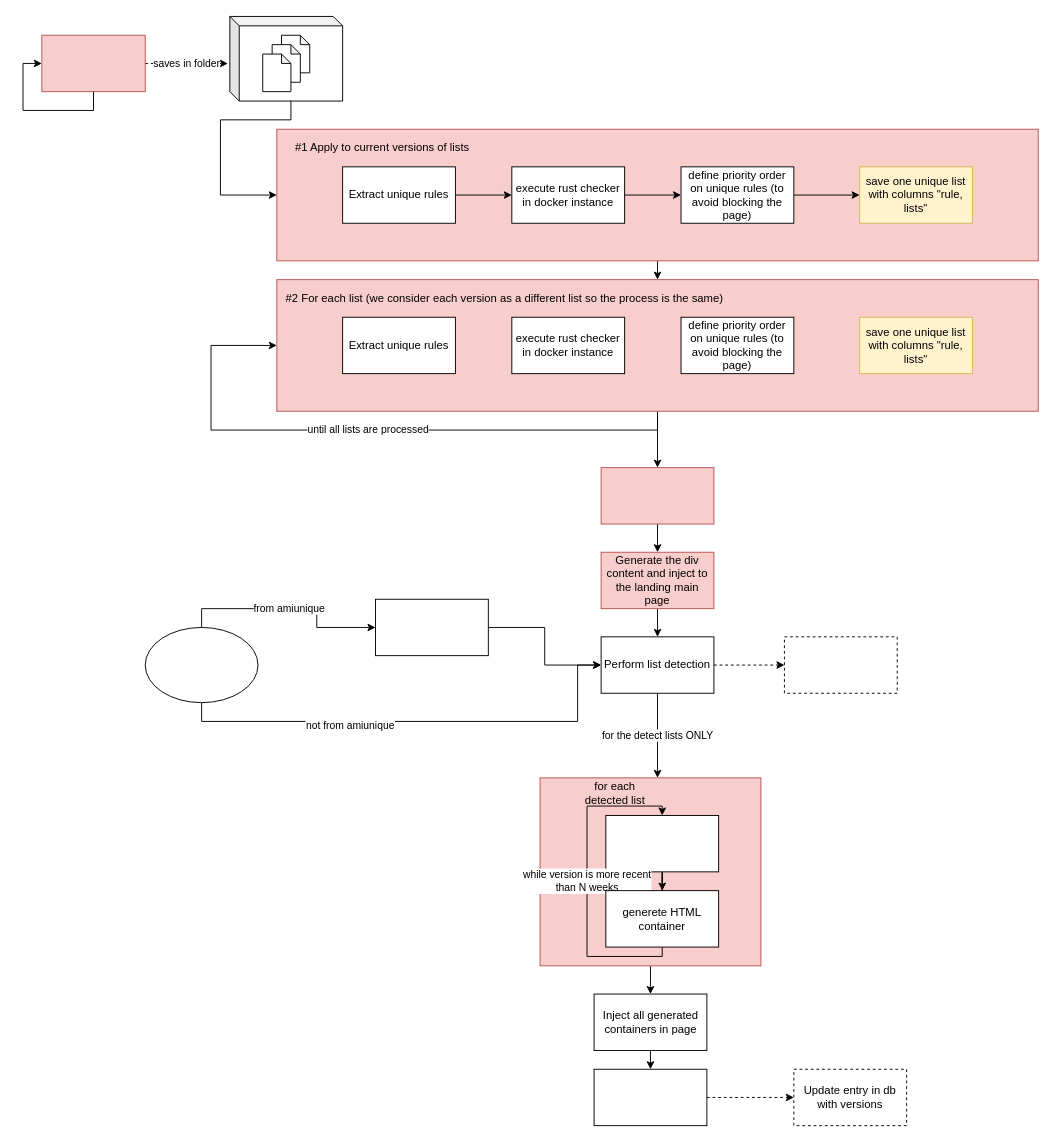
The diagram is 1055 pixels wide and 1142 high, and some of its shapes have lost their labels. Here are the shapes that lost their labels. From the top down, the centre of each, then its label:
At (x=93, y=63): "crawler".
At (x=657, y=495): "Read the unique rules file issued from #1".
At (x=431, y=627): "cookie id".
At (x=201, y=665): "user access the website".
At (x=840, y=664): "Save in db with cookie id if present, or no id if not".
At (x=662, y=843): "read unique rule for each version".
At (x=650, y=1097): "Perform version detection".
